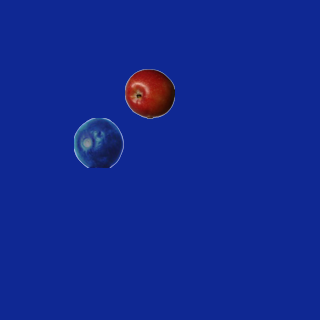Apple Braeburn: (124, 68, 174, 118)
Huckleberry: (73, 117, 123, 167)
